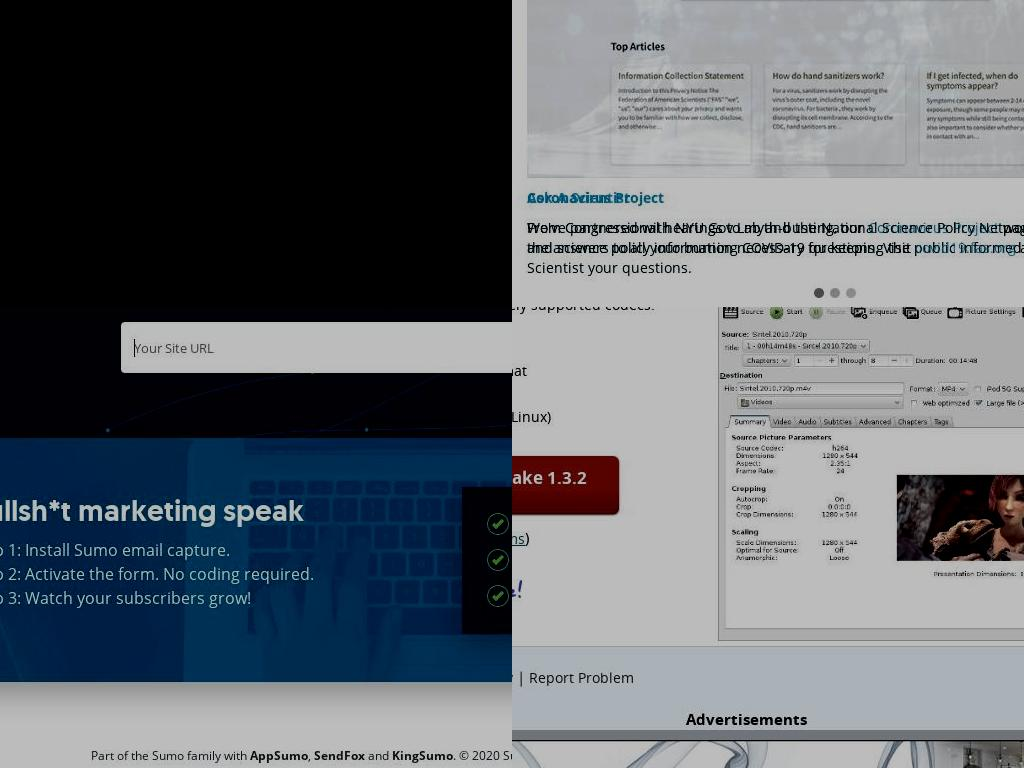button: (512, 456, 620, 514), (811, 288, 828, 301), (827, 288, 844, 301), (843, 288, 860, 301)
field: (120, 322, 512, 374)
heading: (0, 32, 512, 118), (0, 117, 512, 162), (0, 489, 438, 532)
iframe: (512, 740, 1024, 768)
image: (0, 0, 512, 307), (0, 438, 512, 683), (0, 307, 512, 523), (718, 307, 1024, 641), (527, 0, 1024, 179), (486, 512, 509, 535), (486, 548, 509, 571), (486, 584, 509, 607), (814, 288, 825, 299), (830, 288, 841, 299), (846, 288, 857, 299)
link: (527, 188, 630, 208), (915, 238, 1016, 258), (529, 668, 635, 687), (512, 466, 587, 489), (391, 746, 453, 764), (249, 746, 308, 764), (313, 746, 365, 764)
text: (527, 218, 1024, 258), (527, 238, 1024, 278), (0, 538, 438, 562), (0, 562, 438, 586), (0, 586, 438, 610), (512, 579, 679, 607), (512, 362, 679, 380), (512, 385, 679, 403), (512, 408, 679, 426), (90, 746, 250, 764), (685, 709, 807, 729), (452, 746, 512, 764), (364, 746, 392, 764), (513, 667, 530, 687), (307, 746, 314, 764), (525, 528, 530, 549)
